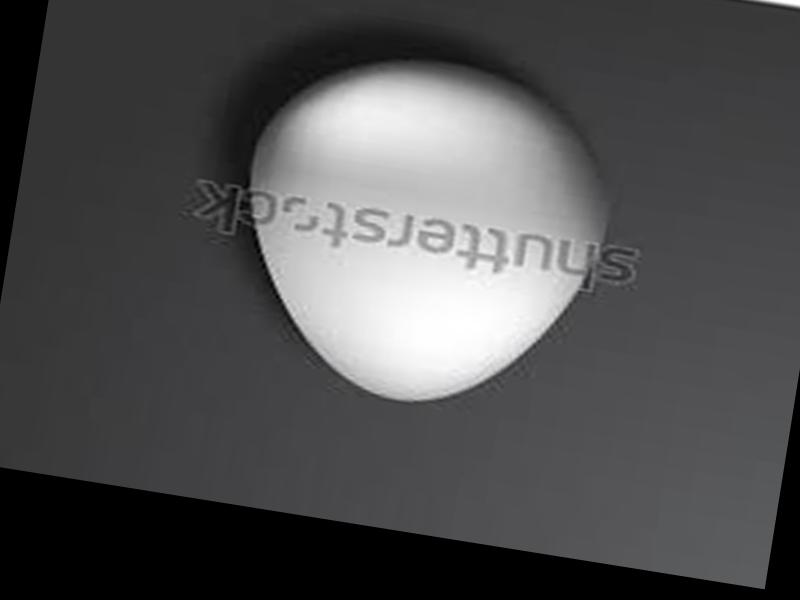Eggs: (219, 38, 626, 430)
